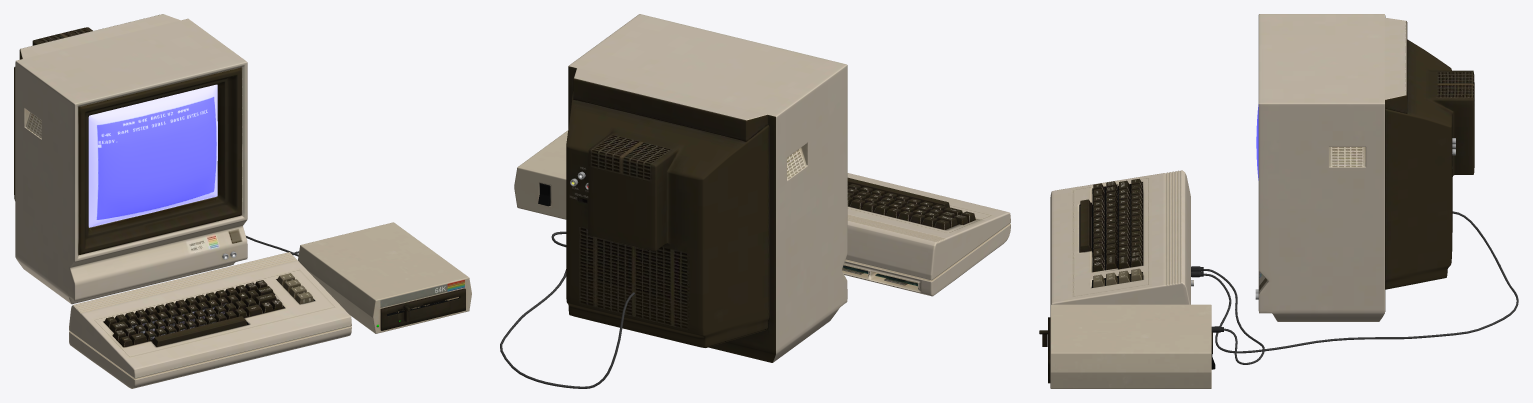
File: 8_bit_pc-compressed.glb
The picture shows the model from 3 angles, left to right: view 1: azimuth 30°, elevation 25°; view 2: azimuth 150°, elevation 25°; view 3: azimuth 270°, elevation 25°; orthographic projection. The views are drawn at different scales.
Visible parts, largest first — view 1: MRLN_8bit2MonitorShape, MRLN_8bit2Shape, MRLN_8bit2DiskdriveShape; view 2: MRLN_8bit2MonitorShape, MRLN_8bit2Shape, MRLN_8bit2DiskdriveShape, MRLN_8bit2LeadsShape; view 3: MRLN_8bit2MonitorShape, MRLN_8bit2Shape, MRLN_8bit2DiskdriveShape, MRLN_8bit2LeadsShape.
Part boxes in pixels (<box>): MRLN_8bit2MonitorShape: <box>14,14,247,304</box>; MRLN_8bit2Shape: <box>69,252,351,388</box>; MRLN_8bit2DiskdriveShape: <box>298,222,471,333</box>; MRLN_8bit2MonitorShape: <box>566,14,847,362</box>; MRLN_8bit2Shape: <box>842,173,1010,296</box>; MRLN_8bit2DiskdriveShape: <box>514,130,568,219</box>; MRLN_8bit2LeadsShape: <box>500,231,634,388</box>; MRLN_8bit2MonitorShape: <box>1255,14,1474,321</box>; MRLN_8bit2Shape: <box>1050,170,1193,304</box>; MRLN_8bit2DiskdriveShape: <box>1039,304,1215,388</box>; MRLN_8bit2LeadsShape: <box>1191,211,1518,364</box>.
Size of the model in its own units: 0.6029 by 0.3568 by 0.6976.
Materials: 8 (5 with a texture image).
